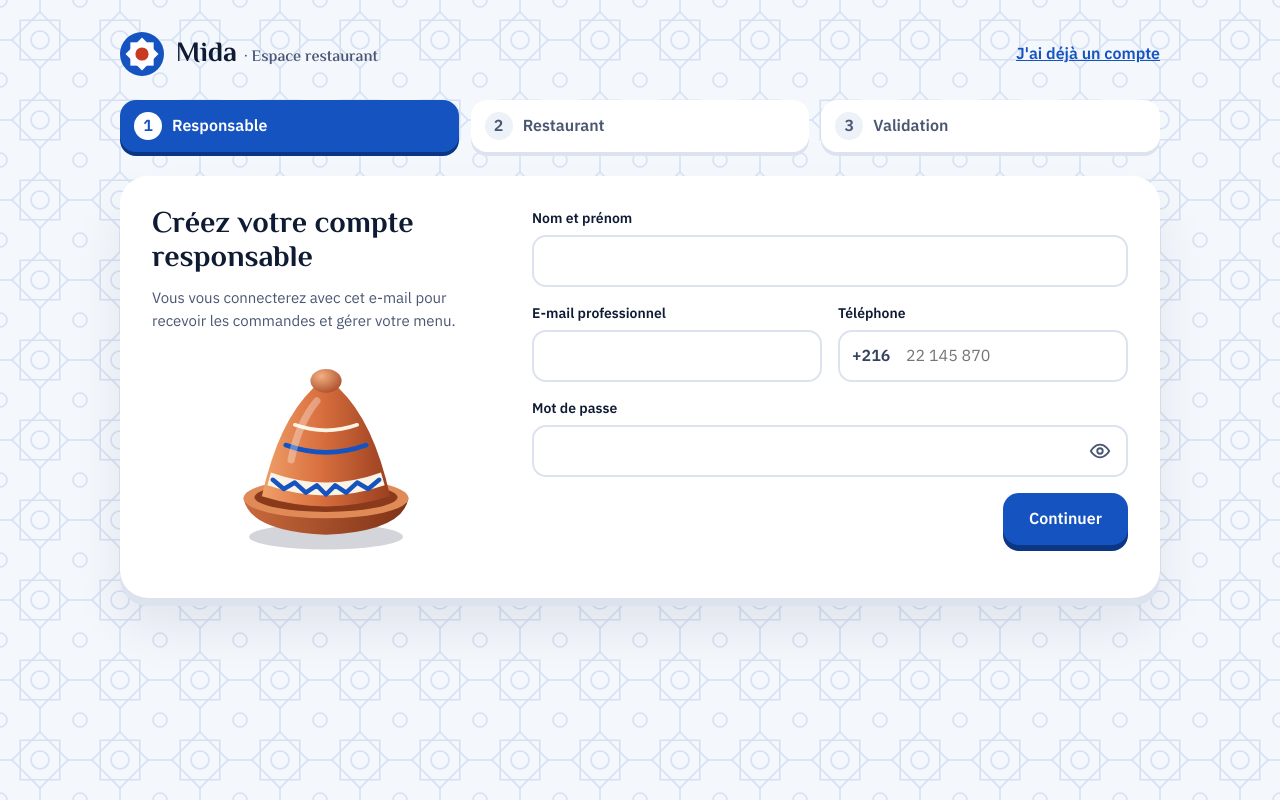
Test: inscription › étape 1 vide : messages sous les champs, on reste à l’étape 1
What coordinates should you click on to do the following:
click the button "Continuer"
I would click on:
 (1065, 519)
Its box is left=1003, top=493, right=1128, bottom=545.
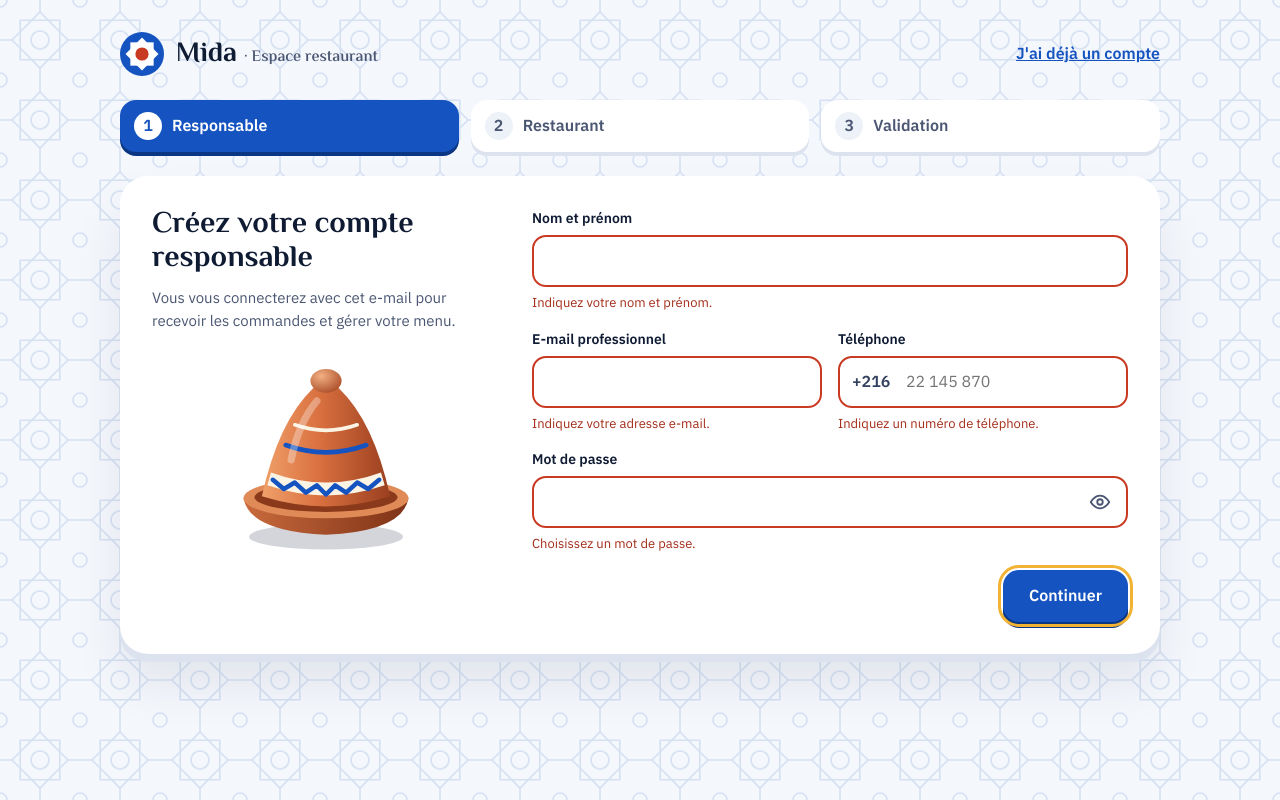
Now the text "Indiquez votre nom et prénom." is shown, box left=532, top=293, right=712, bottom=312
Now the text "Indiquez votre adresse e-mail." is shown, box left=532, top=414, right=710, bottom=432
Now the text "Indiquez un numéro de téléphone." is shown, box left=838, top=414, right=1039, bottom=432
